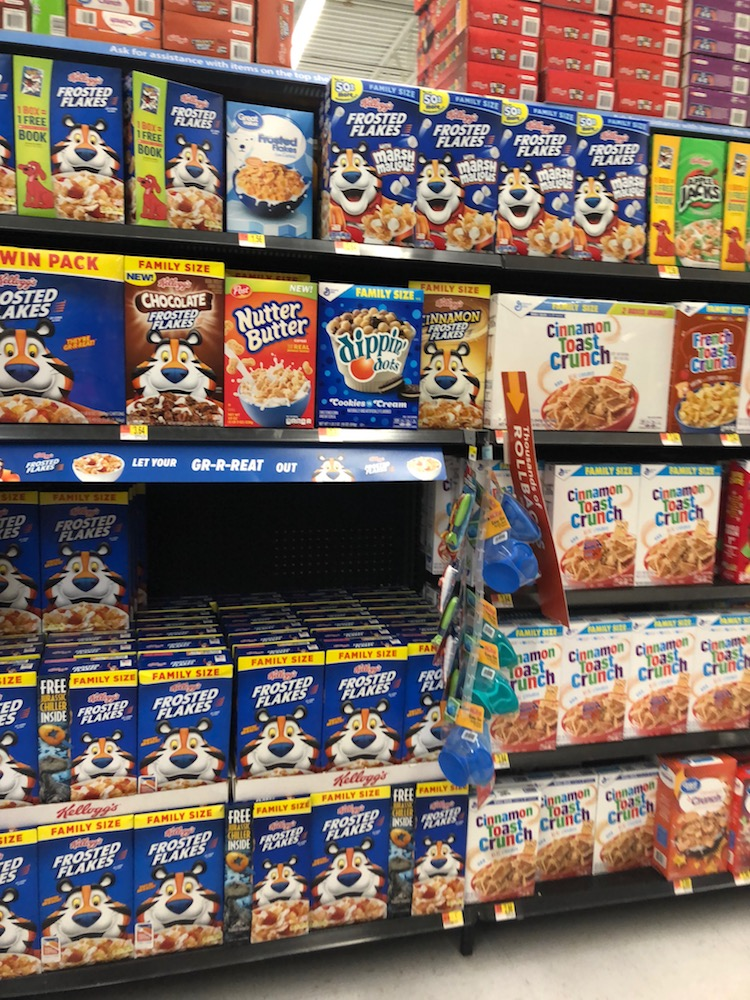Dippin Dots Cookies & Cream -568929378: (317, 284, 413, 427)
Nutter Butter-565717511: (227, 271, 317, 430)
